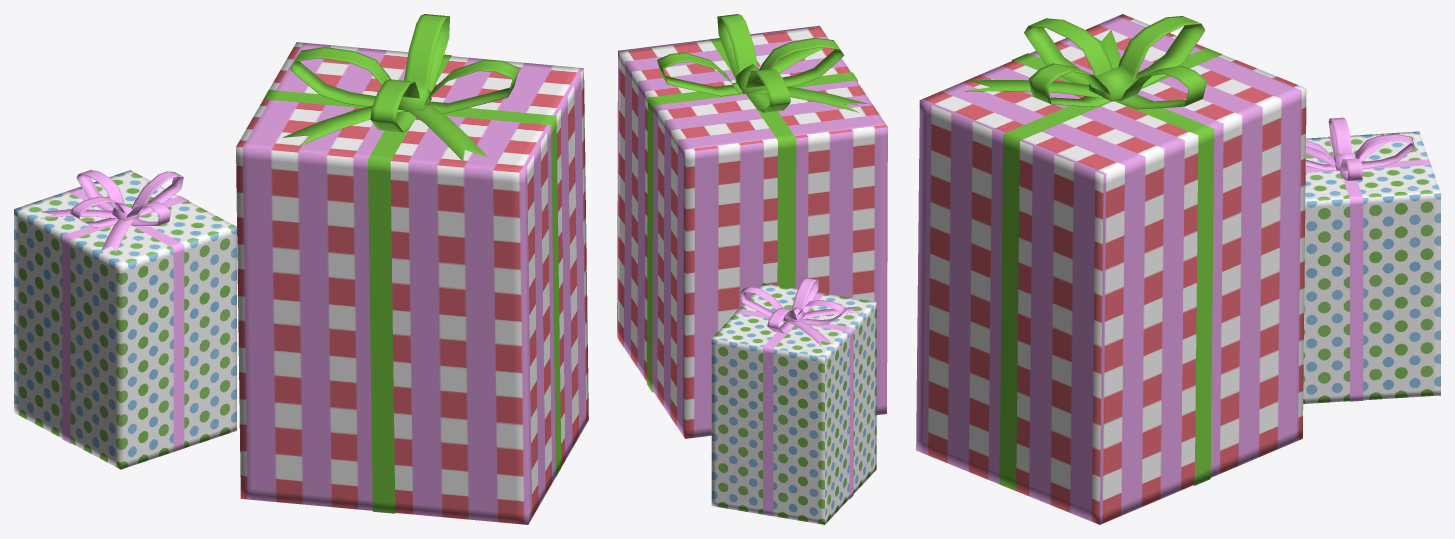
The model's file is Paket_4.glb.
The picture shows the model from 3 angles, left to right: view 1: azimuth 30°, elevation 25°; view 2: azimuth 150°, elevation 25°; view 3: azimuth 270°, elevation 25°; orthographic projection. The views are drawn at different scales.
Parts seen in each view (by area): view 1: Paket.004; view 2: Paket.004; view 3: Paket.004.
Boxes of the visible parts, box(x1,y1,x2,y2) form: Paket.004: box(14, 14, 588, 524); Paket.004: box(617, 14, 887, 524); Paket.004: box(916, 14, 1440, 524).
Size of the model in its own units: 1.17 by 1.11 by 1.3.
4 materials, 2 textured.
